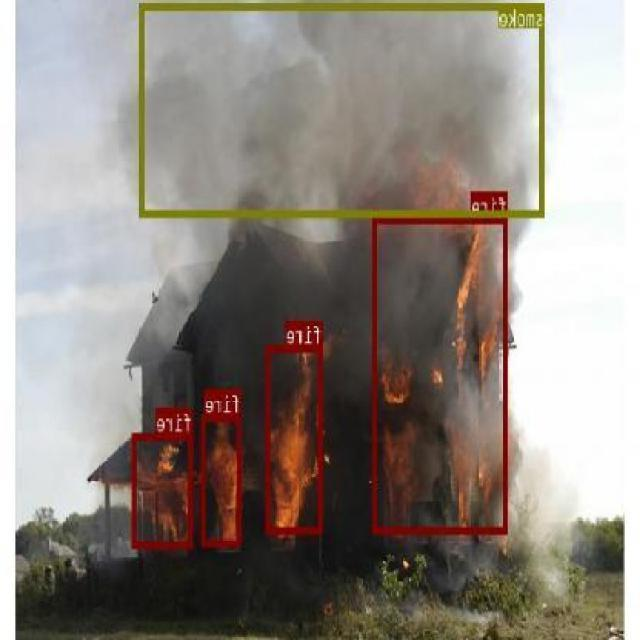Fire: (156, 344, 332, 546), (382, 230, 502, 503)
Smoke: (135, 8, 520, 286), (460, 364, 577, 594)
